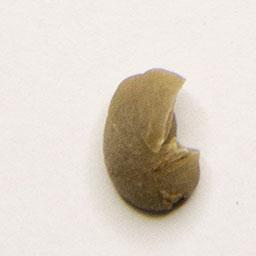defect: (100, 63, 204, 216)
